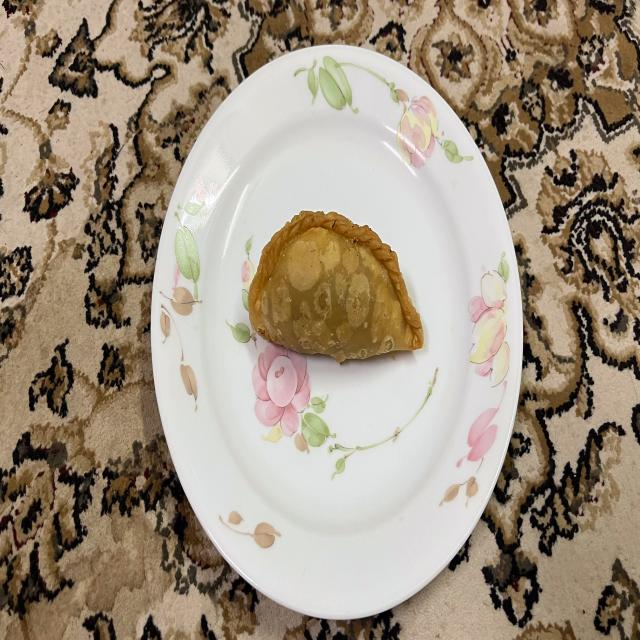karipap: (249, 211, 422, 362)
